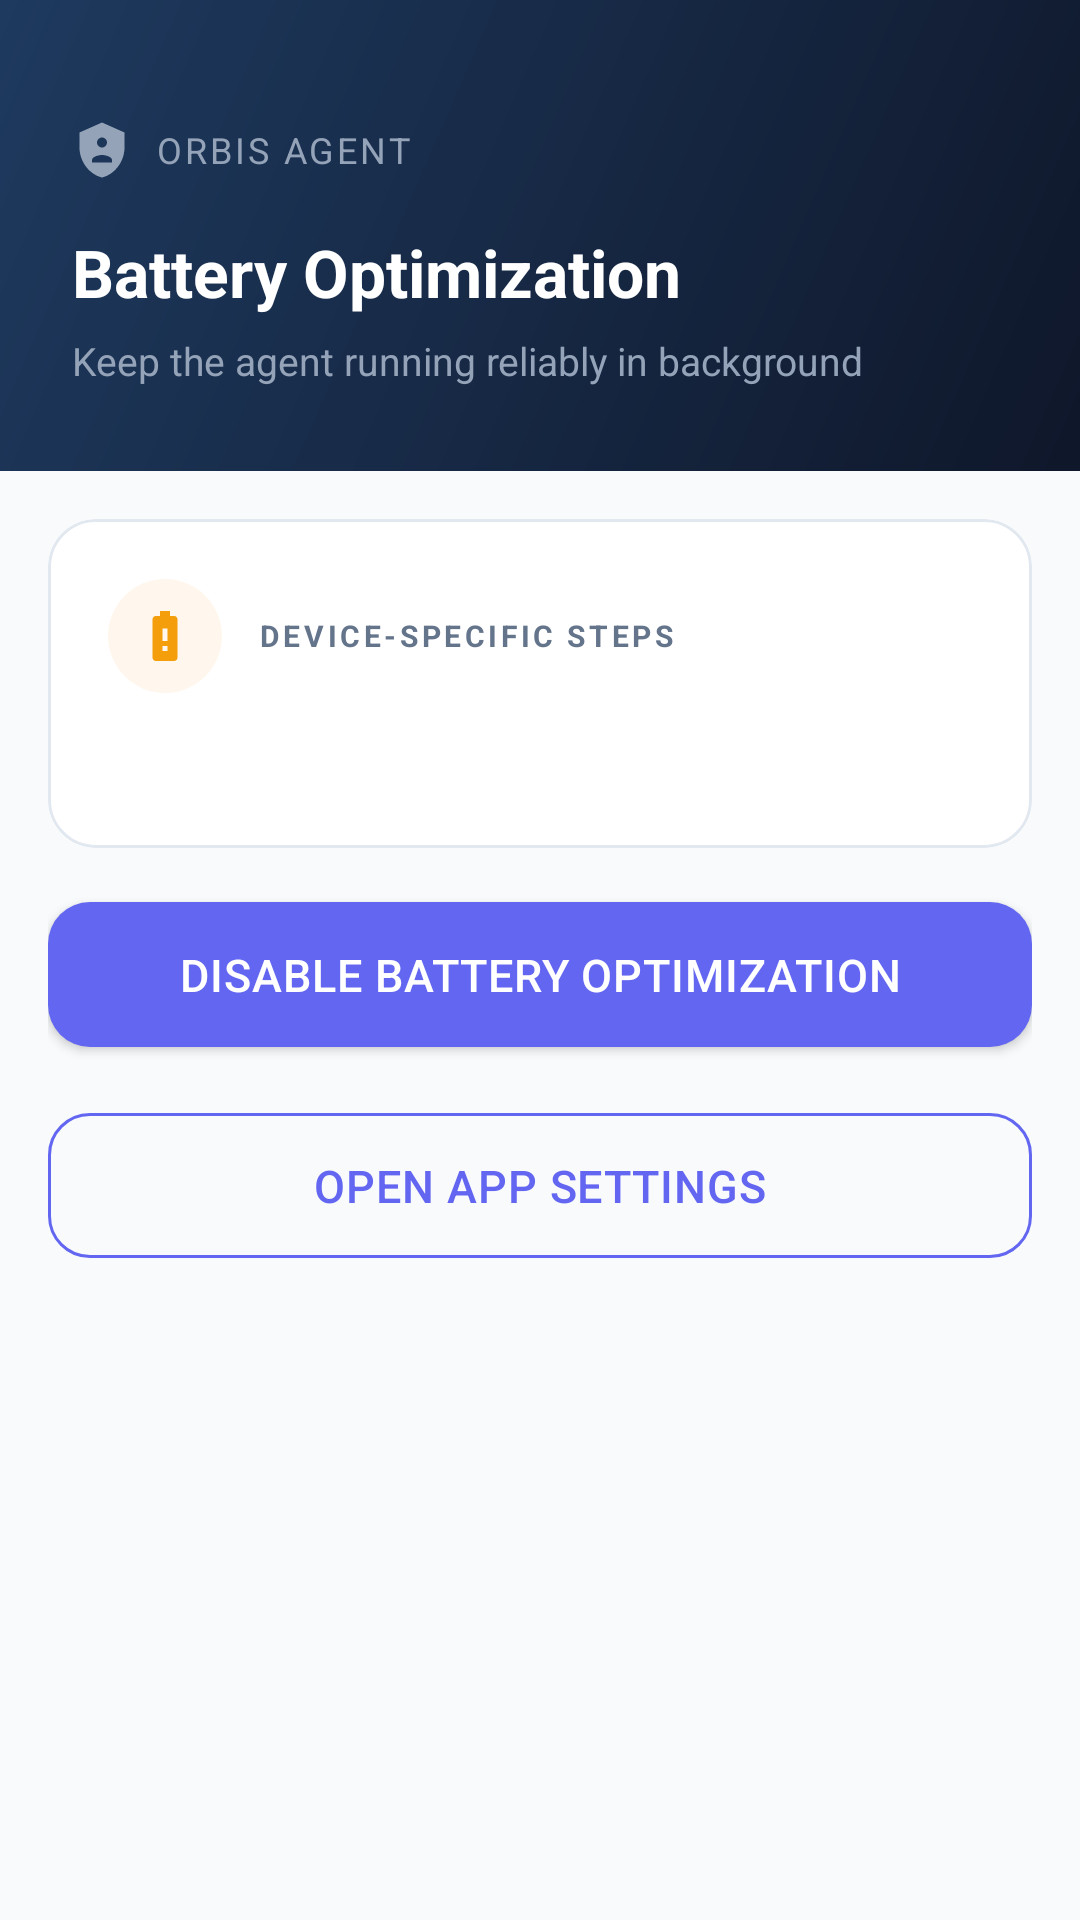

Screen size 1080*1920. Icon name, then its box in pixels as bbox(x1, y1, x2, y2):
Battery: bbox(152, 611, 178, 661)
